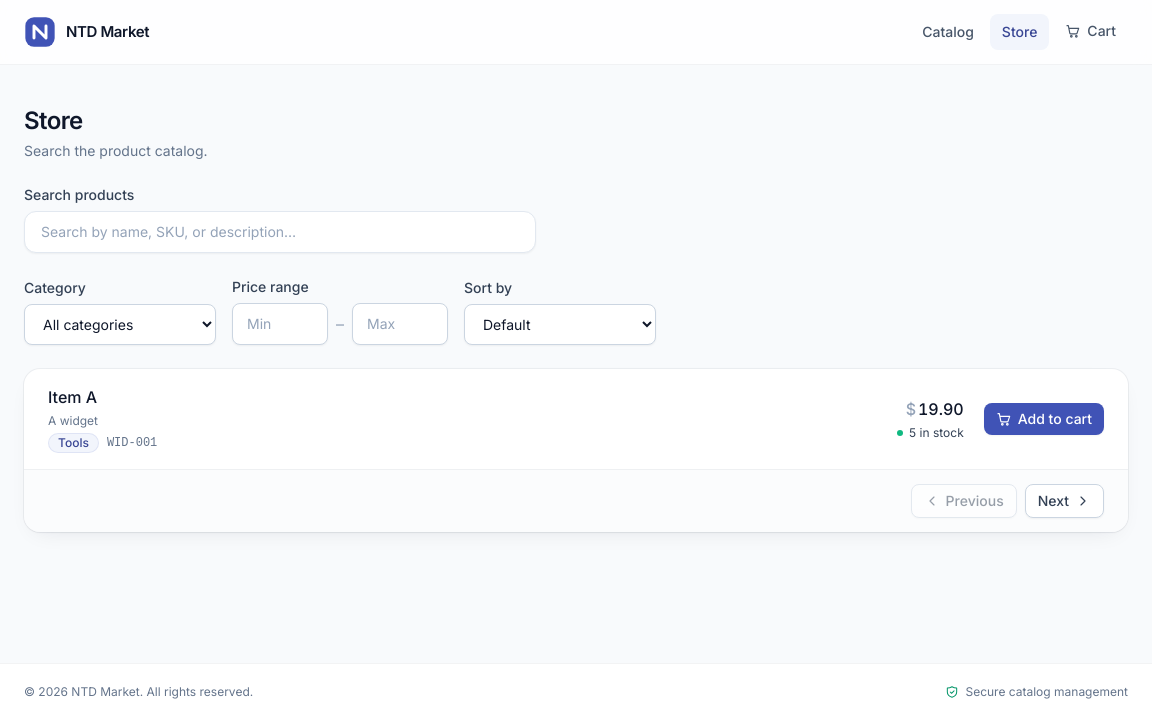
Test: StoreSearchPage — keyset pagination (SPEC-008) › walks Next then Prev through the client-held cursor stack
Expected: the text "Item A" is shown, [48,387,97,407]
Click the button "Next" at (1064, 501), box [1025,484,1104,518]
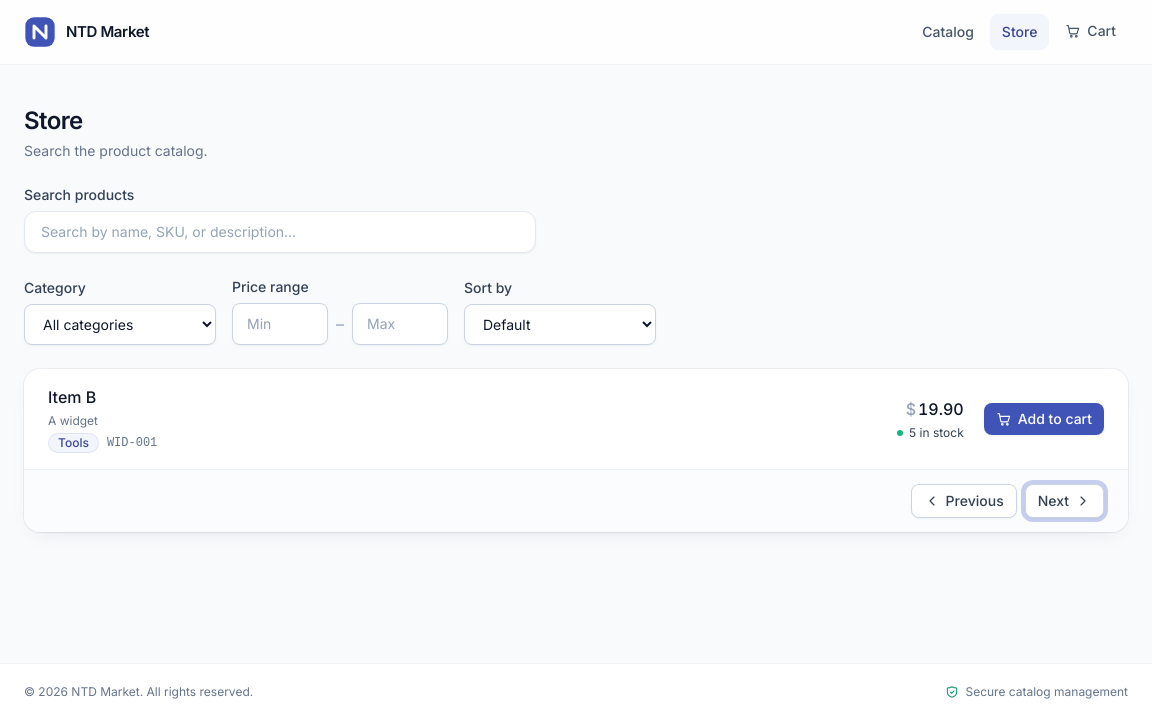
Result: the text "Item B" is shown at [48,387,96,407]
Click the button "Next" at (1064, 501), box [1025,484,1104,518]
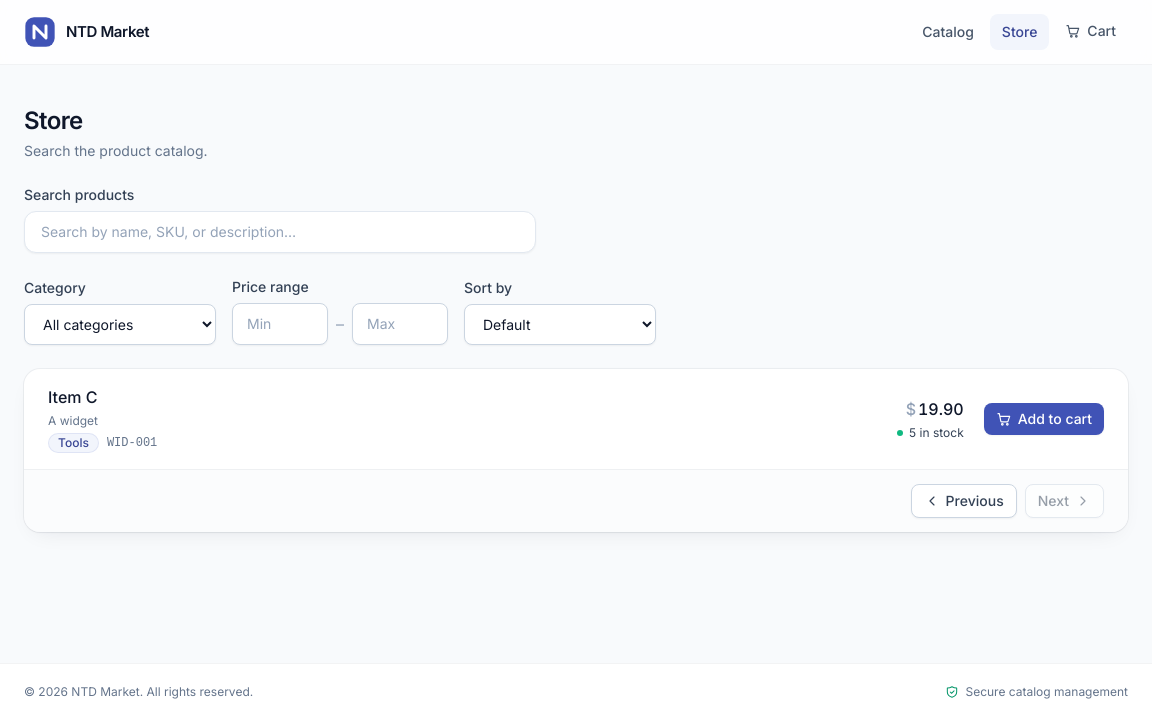
Result: the text "Item C" is shown at [48,387,98,407]
Click the button "Previous" at (964, 501), box [911,484,1017,518]
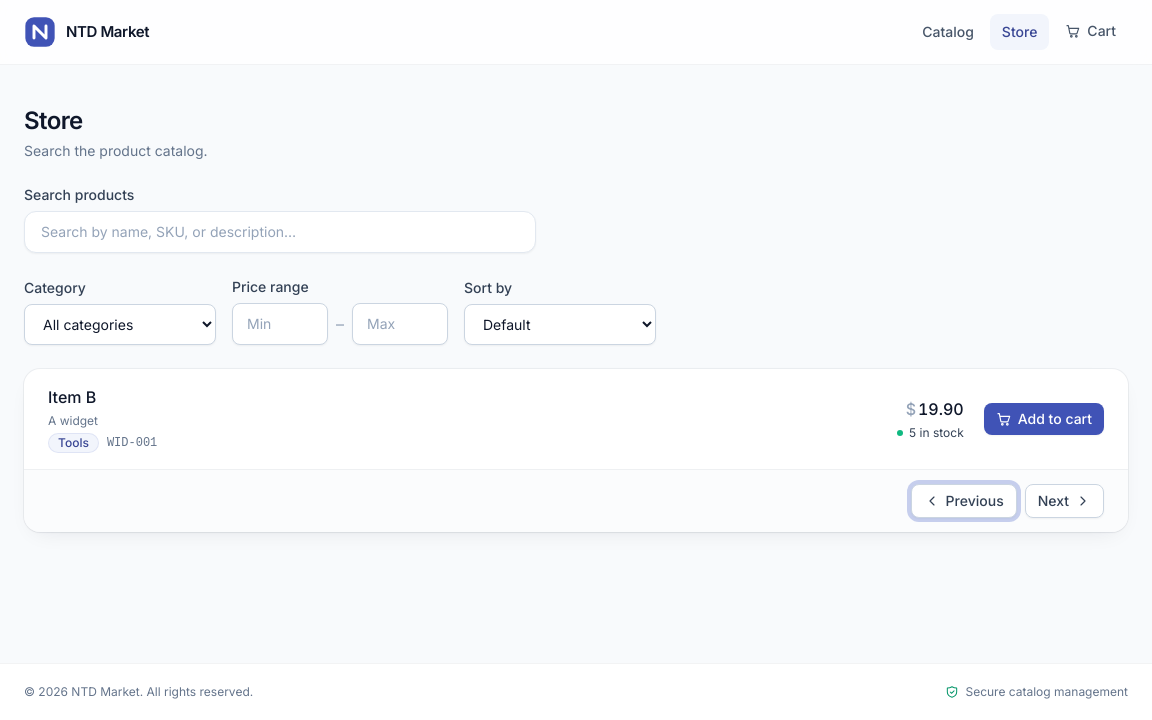
Result: the text "Item B" is shown at [48,387,96,407]
Click the button "Previous" at (964, 501), box [911,484,1017,518]
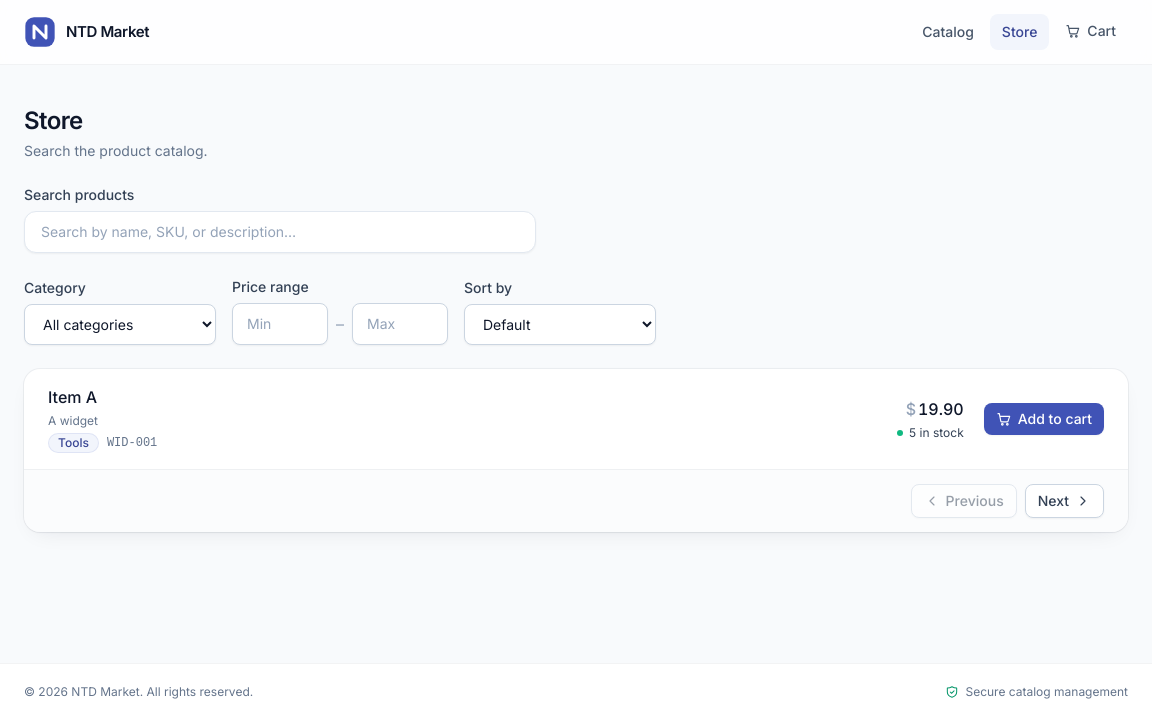
Result: the text "Item A" is shown at [48,387,97,407]
Result: the button "Previous" is disabled at [911,484,1017,518]
